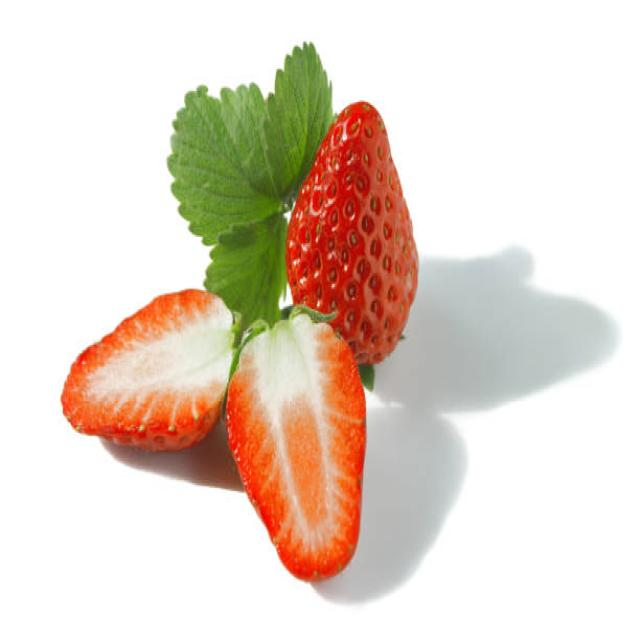Healthy Fruit: (227, 315, 366, 583), (287, 98, 419, 364), (60, 289, 238, 455)
